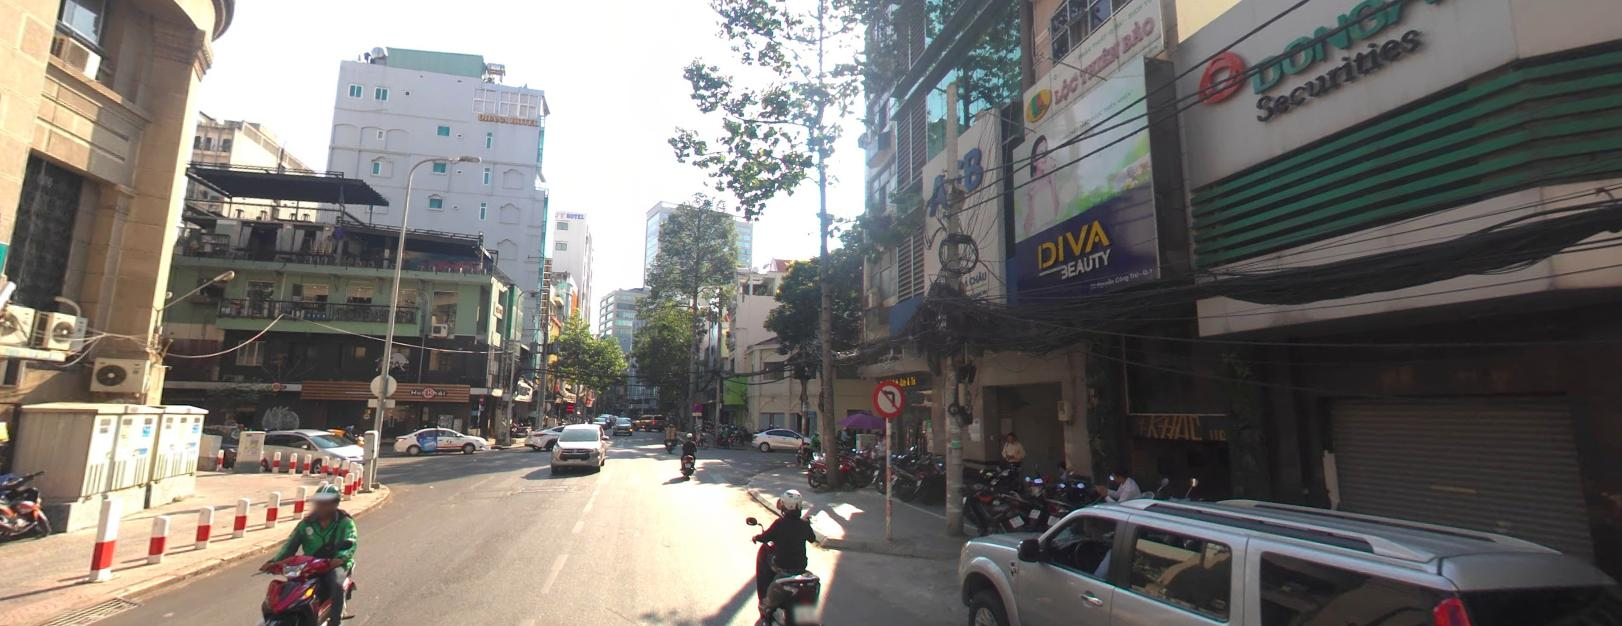Cam dung va do: (693, 401, 702, 410)
Cam re: (873, 379, 904, 415)
